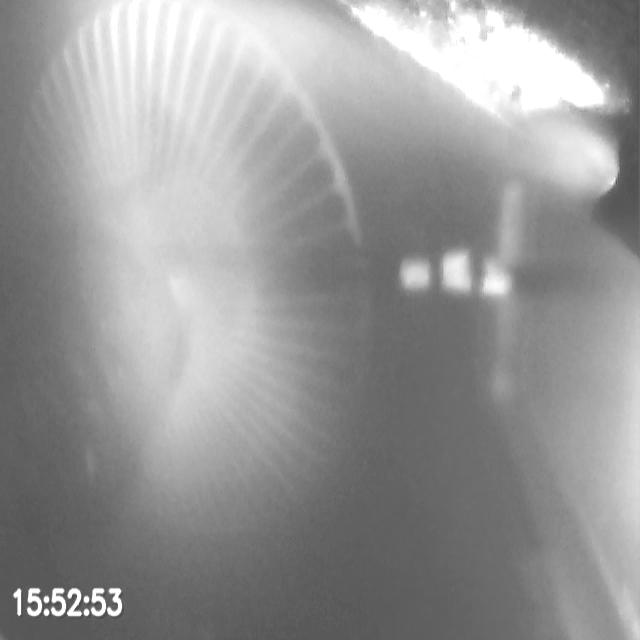white-dots: (398, 250, 512, 300)
